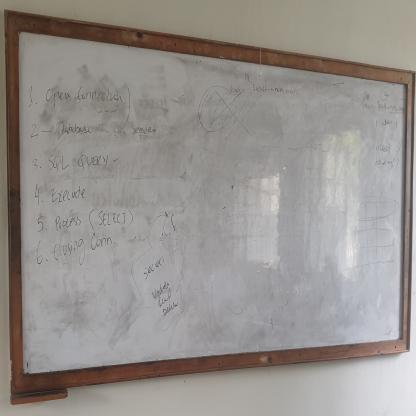Handwritten text: (131, 242, 190, 333), (44, 79, 127, 119), (46, 143, 110, 186), (48, 227, 116, 265), (53, 113, 103, 145), (46, 181, 89, 208), (51, 208, 82, 233), (96, 207, 127, 229)
Whiteboard: (10, 25, 410, 386)
